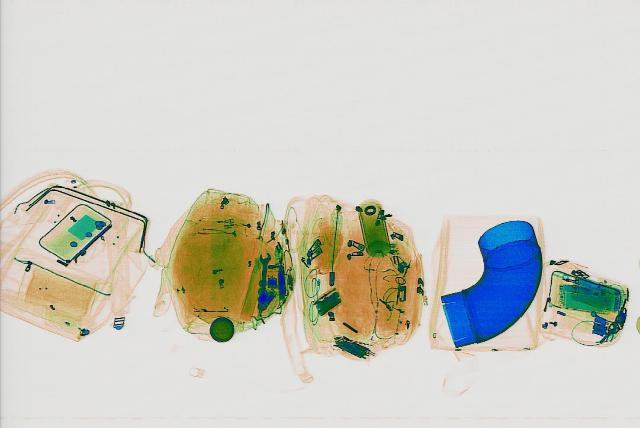Wrench: (258, 251, 268, 305)
